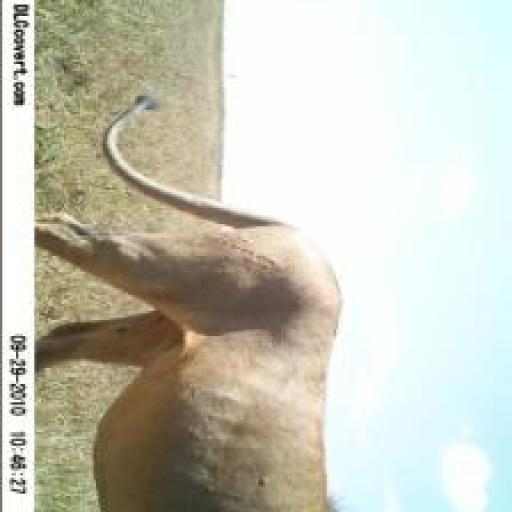lion: (34, 82, 360, 512)
